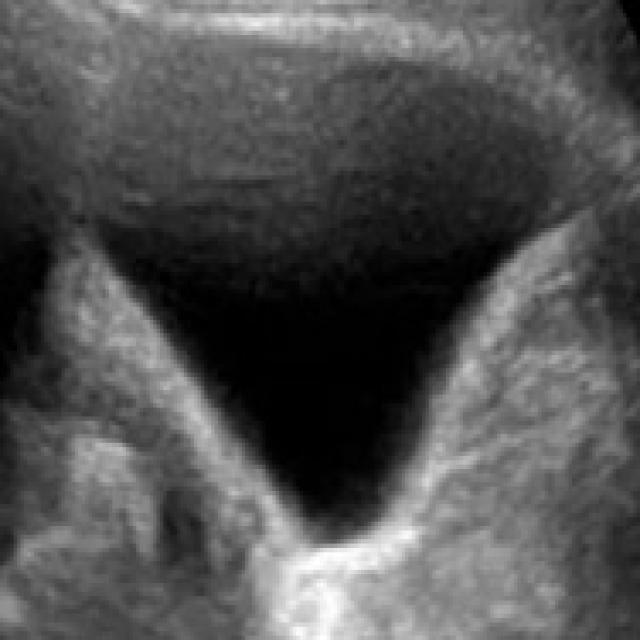bladder: (42, 6, 621, 634)
